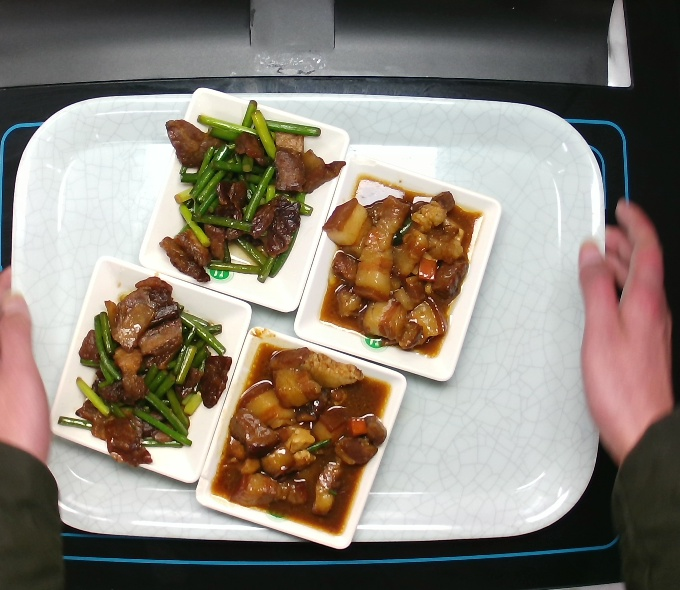wcq-HongShaoRou: (211, 342, 392, 534), (322, 170, 490, 363)
wcq-SuanMiaoChaoRou: (156, 95, 348, 293), (53, 271, 233, 467)
